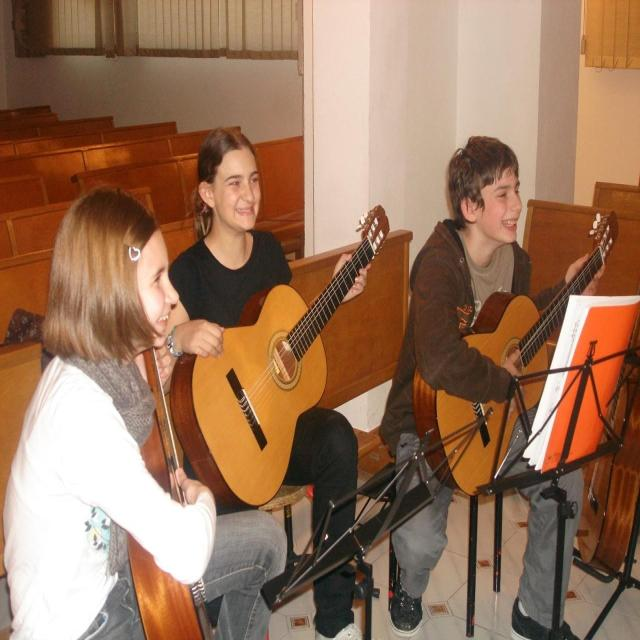guitar: (170, 202, 390, 512), (410, 210, 620, 498), (118, 344, 220, 638)
